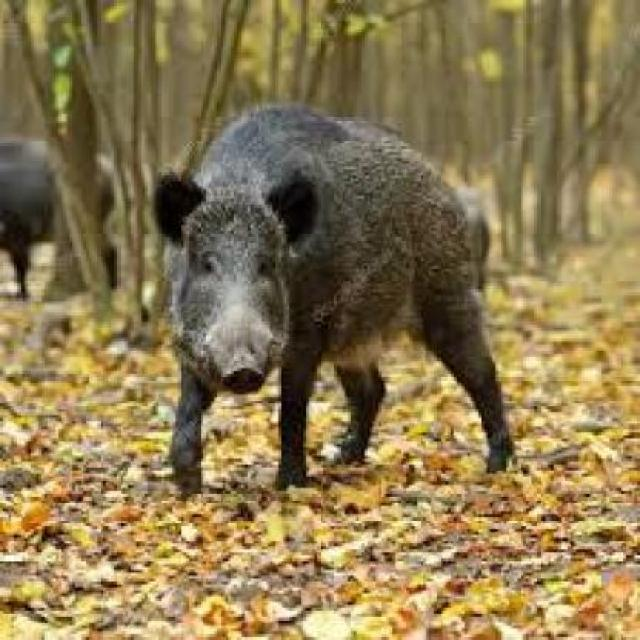Wild Boar: (141, 92, 528, 506)
